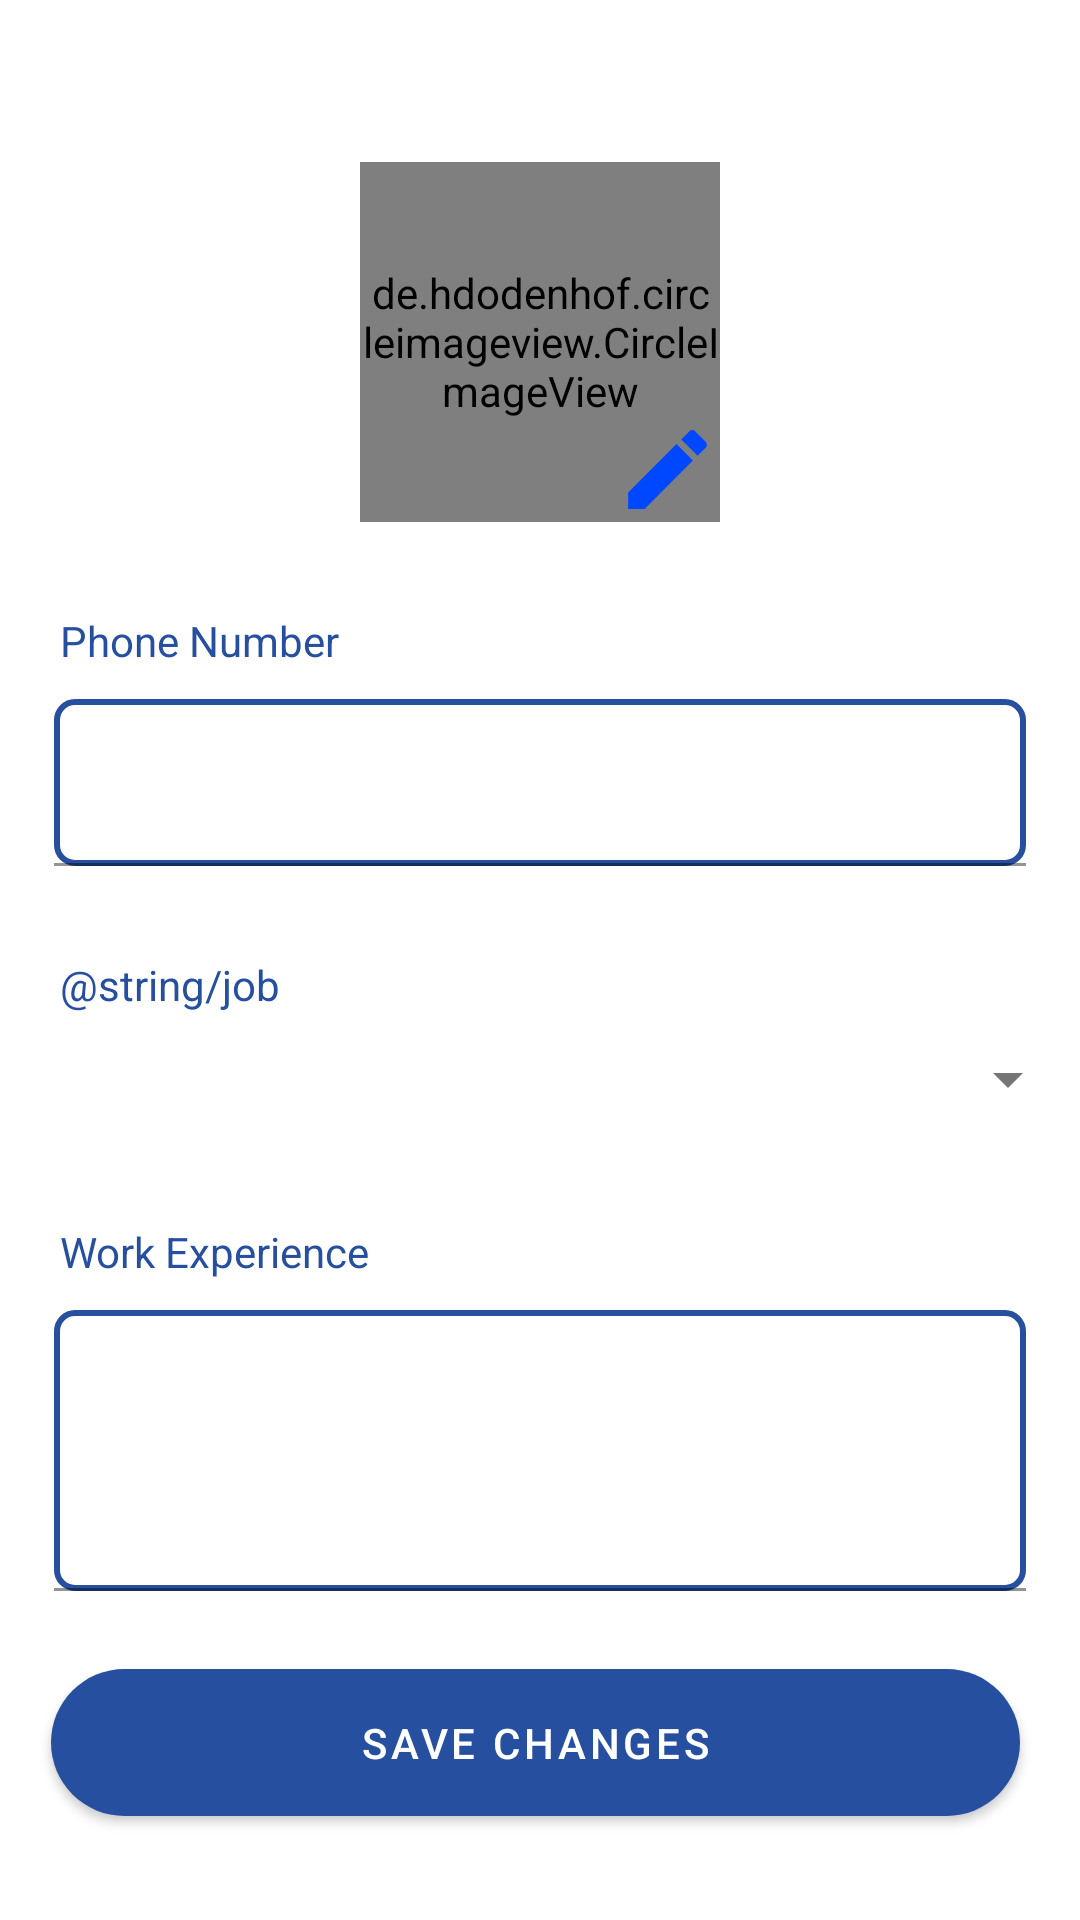

Where to tap for icons on this 1080*1920 app screen, as (x,y):
edit profile: (667,469)
